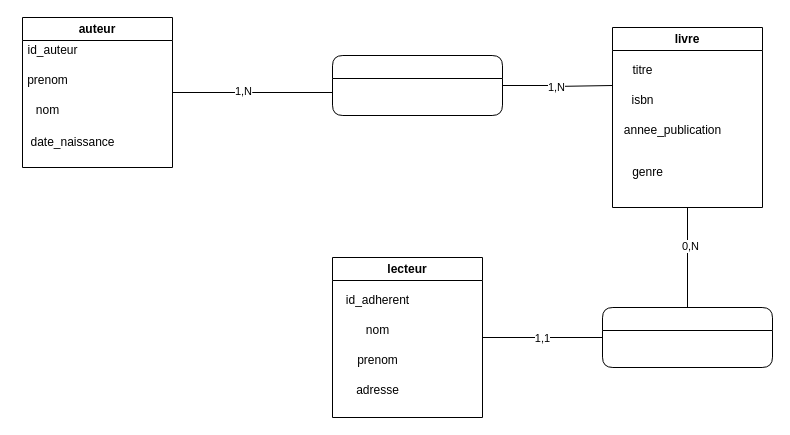
Some shapes in this 790 by 435 pixel diagram are drawn without their labels. The shapes that lost their labels are listed below. From the top down, each one's centre as x and y in pixels, then its label:
At point 417,85: "écrit par".
At point 687,337: "emprunter".
